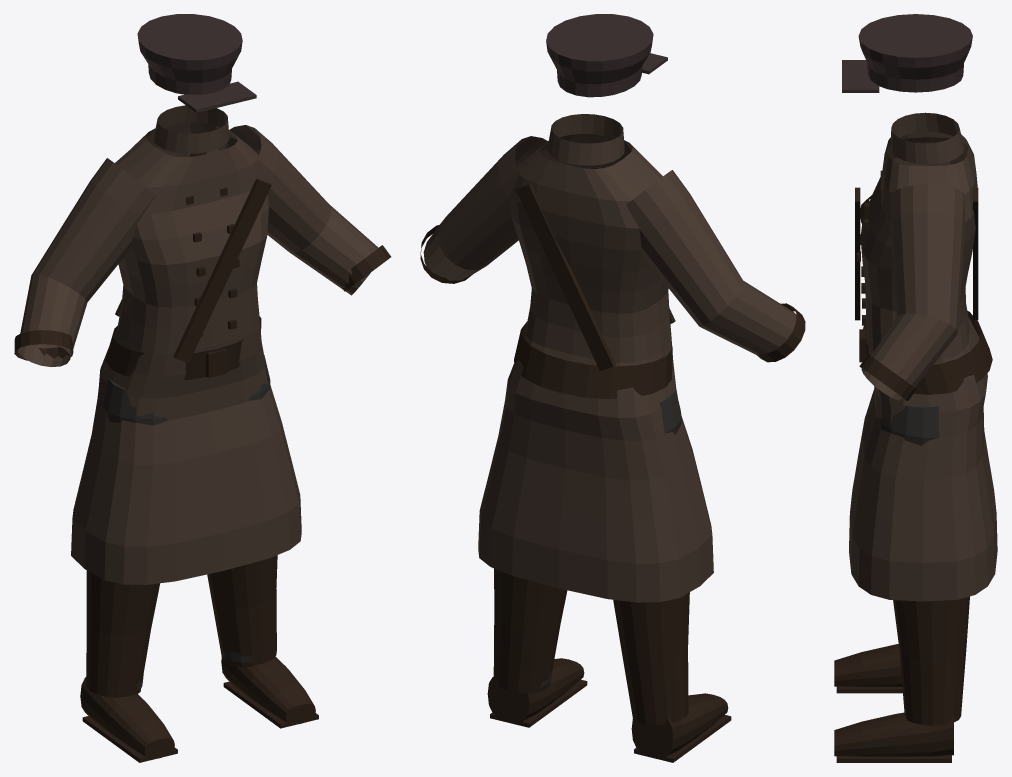
File: tenue_marley_officier_lod0.glb
3 renders of one model, left to right at view 1: azimuth 30°, elevation 25°; view 2: azimuth 150°, elevation 25°; view 3: azimuth 270°, elevation 25°, orthographic. The views are drawn at different scales.
Parts seen in each view (by area): view 1: pelvis, spine_02, upperarm_r, head, calf_r, calf_l, upperarm_l, lowerarm_r, foot_r, foot_l, lowerarm_l, neck_01 (+1 smaller); view 2: pelvis, spine_02, upperarm_r, calf_r, head, calf_l, upperarm_l, lowerarm_r, foot_r, foot_l, neck_01, lowerarm_l (+1 smaller); view 3: pelvis, spine_02, upperarm_l, head, calf_l, lowerarm_l, foot_l, foot_r, neck_01, thigh_l.
Boxes of the visible parts, x1,y1,x2,y2 form: pelvis: (71, 316, 301, 584); spine_02: (97, 122, 271, 420); upperarm_r: (32, 158, 156, 301); head: (137, 14, 256, 112); calf_r: (86, 570, 159, 697); calf_l: (207, 555, 277, 666); upperarm_l: (206, 125, 331, 252); lowerarm_r: (14, 273, 87, 366); foot_r: (80, 677, 177, 762); foot_l: (221, 656, 318, 728); lowerarm_l: (290, 204, 391, 295); neck_01: (154, 105, 229, 153); pelvis: (478, 321, 713, 602); spine_02: (505, 133, 677, 440); upperarm_r: (626, 170, 743, 326); calf_r: (613, 592, 689, 725); head: (546, 14, 667, 97); calf_l: (493, 568, 567, 693); upperarm_l: (437, 136, 570, 269); lowerarm_r: (700, 281, 805, 362); foot_r: (631, 693, 731, 762); foot_l: (487, 658, 587, 727); neck_01: (547, 114, 624, 165); lowerarm_l: (420, 225, 485, 283); pelvis: (849, 311, 997, 601); spine_02: (855, 131, 987, 436); upperarm_l: (889, 184, 965, 332); head: (842, 14, 972, 92); calf_l: (893, 596, 969, 725); lowerarm_l: (859, 313, 957, 400); foot_l: (834, 712, 953, 762); foot_r: (834, 644, 902, 693); neck_01: (890, 112, 964, 164); thigh_l: (877, 405, 939, 445).
Size of the model in its own units: 0.9864 by 1.71 by 0.371.
